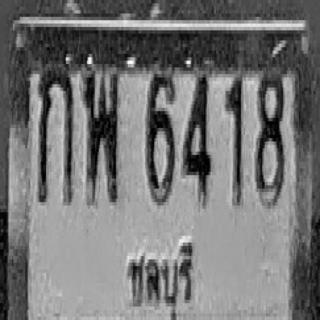A01: (38, 67, 73, 202)
A30: (84, 71, 118, 202)
N01: (225, 76, 242, 204)
N04: (183, 72, 211, 200)
N06: (146, 72, 175, 200)
N08: (256, 72, 284, 204)
P13: (127, 235, 198, 320)
